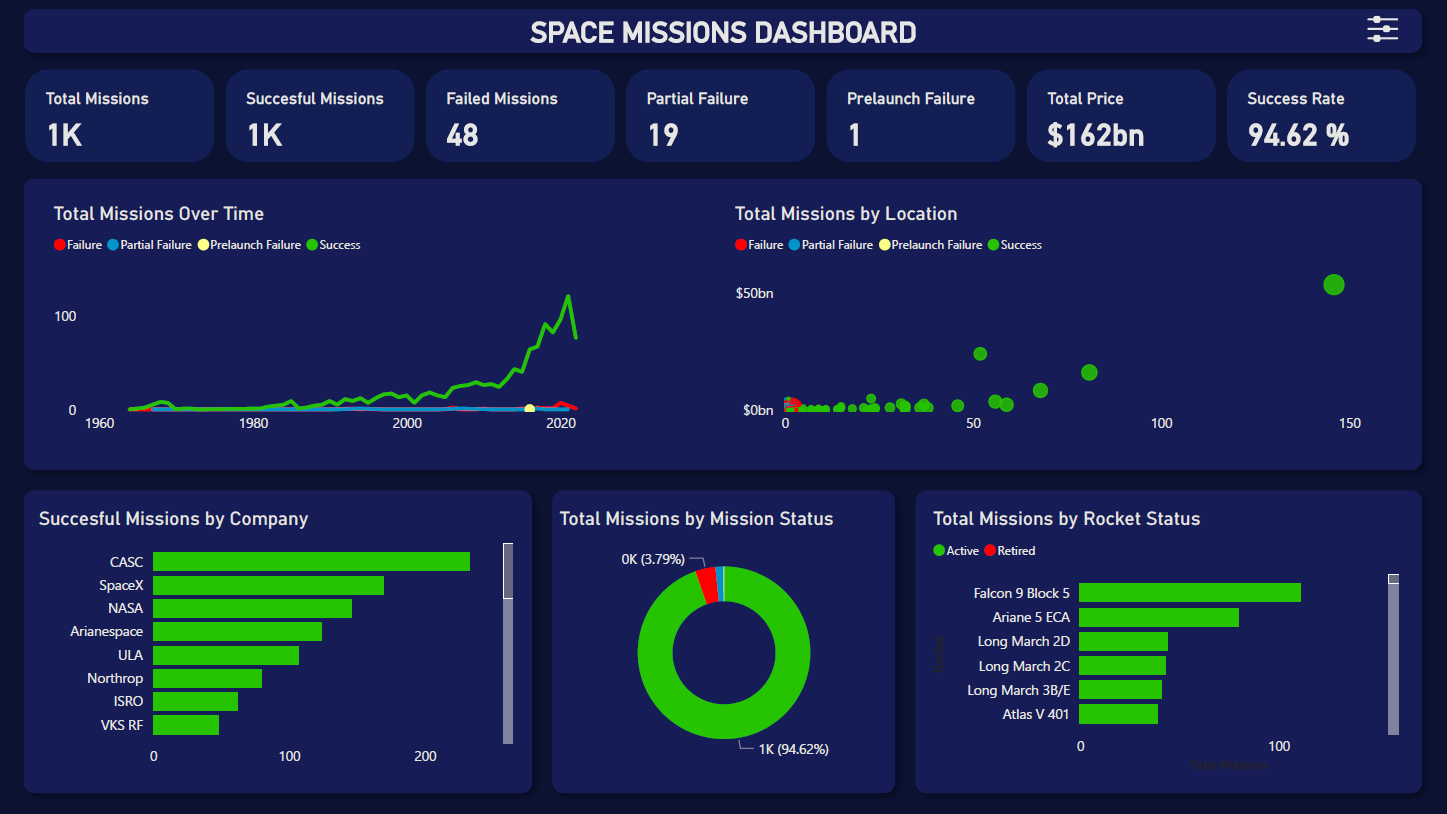

The dashboard page shown, as its layout file describes it:
{"tool":"powerbi","page":{"name":"Page 1","canvas":[1280,720],"ordinal":0},"visuals":[{"type":"shape","box":[12.6,148.7,1254.7,276],"z":0},{"type":"shape","box":[12.6,424.7,467.5,286.7],"z":1000},{"type":"shape","box":[480.1,424.7,320.7,286.7],"z":2000},{"type":"shape","box":[800.9,424.7,466.5,286.7],"z":3000},{"type":"shape","box":[12.6,0,1254.7,57.3],"z":4000},{"type":"lineChart","title":"Total Missions Over Time","fields":{"Category":["Date Table.Year"],"Y":["New Measures.Total Missions"],"Series":["space_missions.MissionStatus"]},"box":[37.9,174,549.1,224.5],"z":5000},{"type":"scatterChart","title":"Total Missions by Location","fields":{"X":["New Measures.Total Missions"],"Category":["space_missions.Location"],"Y":["New Measures.Total Price"],"Series":["space_missions.MissionStatus"],"Size":["New Measures.Succesful Missions"]},"box":[640.5,174,605.5,224.5],"z":6000},{"type":"barChart","fields":{"Y":["New Measures.Succesful Missions"],"Category":["space_missions.Company"]},"box":[25.3,444.2,438.3,247.8],"z":7000},{"type":"barChart","title":"Total Missions by Rocket Status","fields":{"Y":["New Measures.Total Missions"],"Category":["space_missions.Rocket"],"Series":["space_missions.RocketStatus"]},"box":[815.4,444.2,430.6,247.8],"z":8000},{"type":"donutChart","title":"Total Missions by Mission Status","fields":{"Y":["New Measures.Total Missions"],"Category":["space_missions.MissionStatus"]},"box":[485,444.2,311,247.8],"z":9000},{"type":"cardVisual","fields":{"Data":["New Measures.Total Missions","New Measures.Succesful Missions","New Measures.Failed Missions","New Measures.Partial Failure Missions","New Measures.Prelaunch Failure Missions","New Measures.Total Price","New Measures.Success Rate"]},"box":[12.6,57.3,1254.7,96.2],"z":10000},{"type":"image","title":"Filter","box":[1198.4,4.9,47.6,42.8],"z":11000}]}

Visuals, with their boxes in screenshot pixels (x1, y1, x2, y2), scaled from the page's 1280x720 canvas onto the 1447x814 screenshot:
shape: bbox=[14, 168, 1433, 480]
shape: bbox=[14, 480, 543, 804]
shape: bbox=[543, 480, 905, 804]
shape: bbox=[905, 480, 1433, 804]
shape: bbox=[14, 0, 1433, 65]
"Total Missions Over Time" lineChart: bbox=[43, 197, 664, 451]
"Total Missions by Location" scatterChart: bbox=[724, 197, 1409, 451]
barChart - New Measures.Succesful Missions x space_missions.Company: bbox=[29, 502, 524, 782]
"Total Missions by Rocket Status" barChart: bbox=[922, 502, 1409, 782]
"Total Missions by Mission Status" donutChart: bbox=[548, 502, 900, 782]
cardVisual - New Measures.Total Missions x New Measures.Succesful Missions: bbox=[14, 65, 1433, 174]
"Filter" image: bbox=[1355, 6, 1409, 54]
